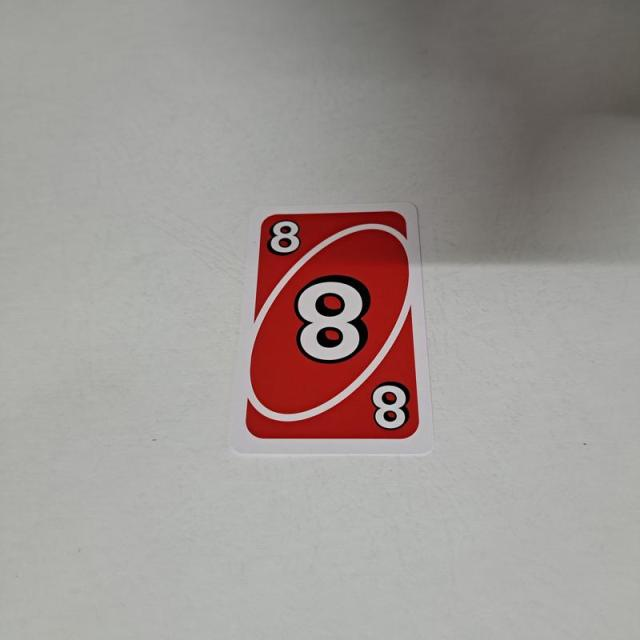Number_8: (270, 217, 302, 260)
Red_Card: (243, 204, 424, 444)
